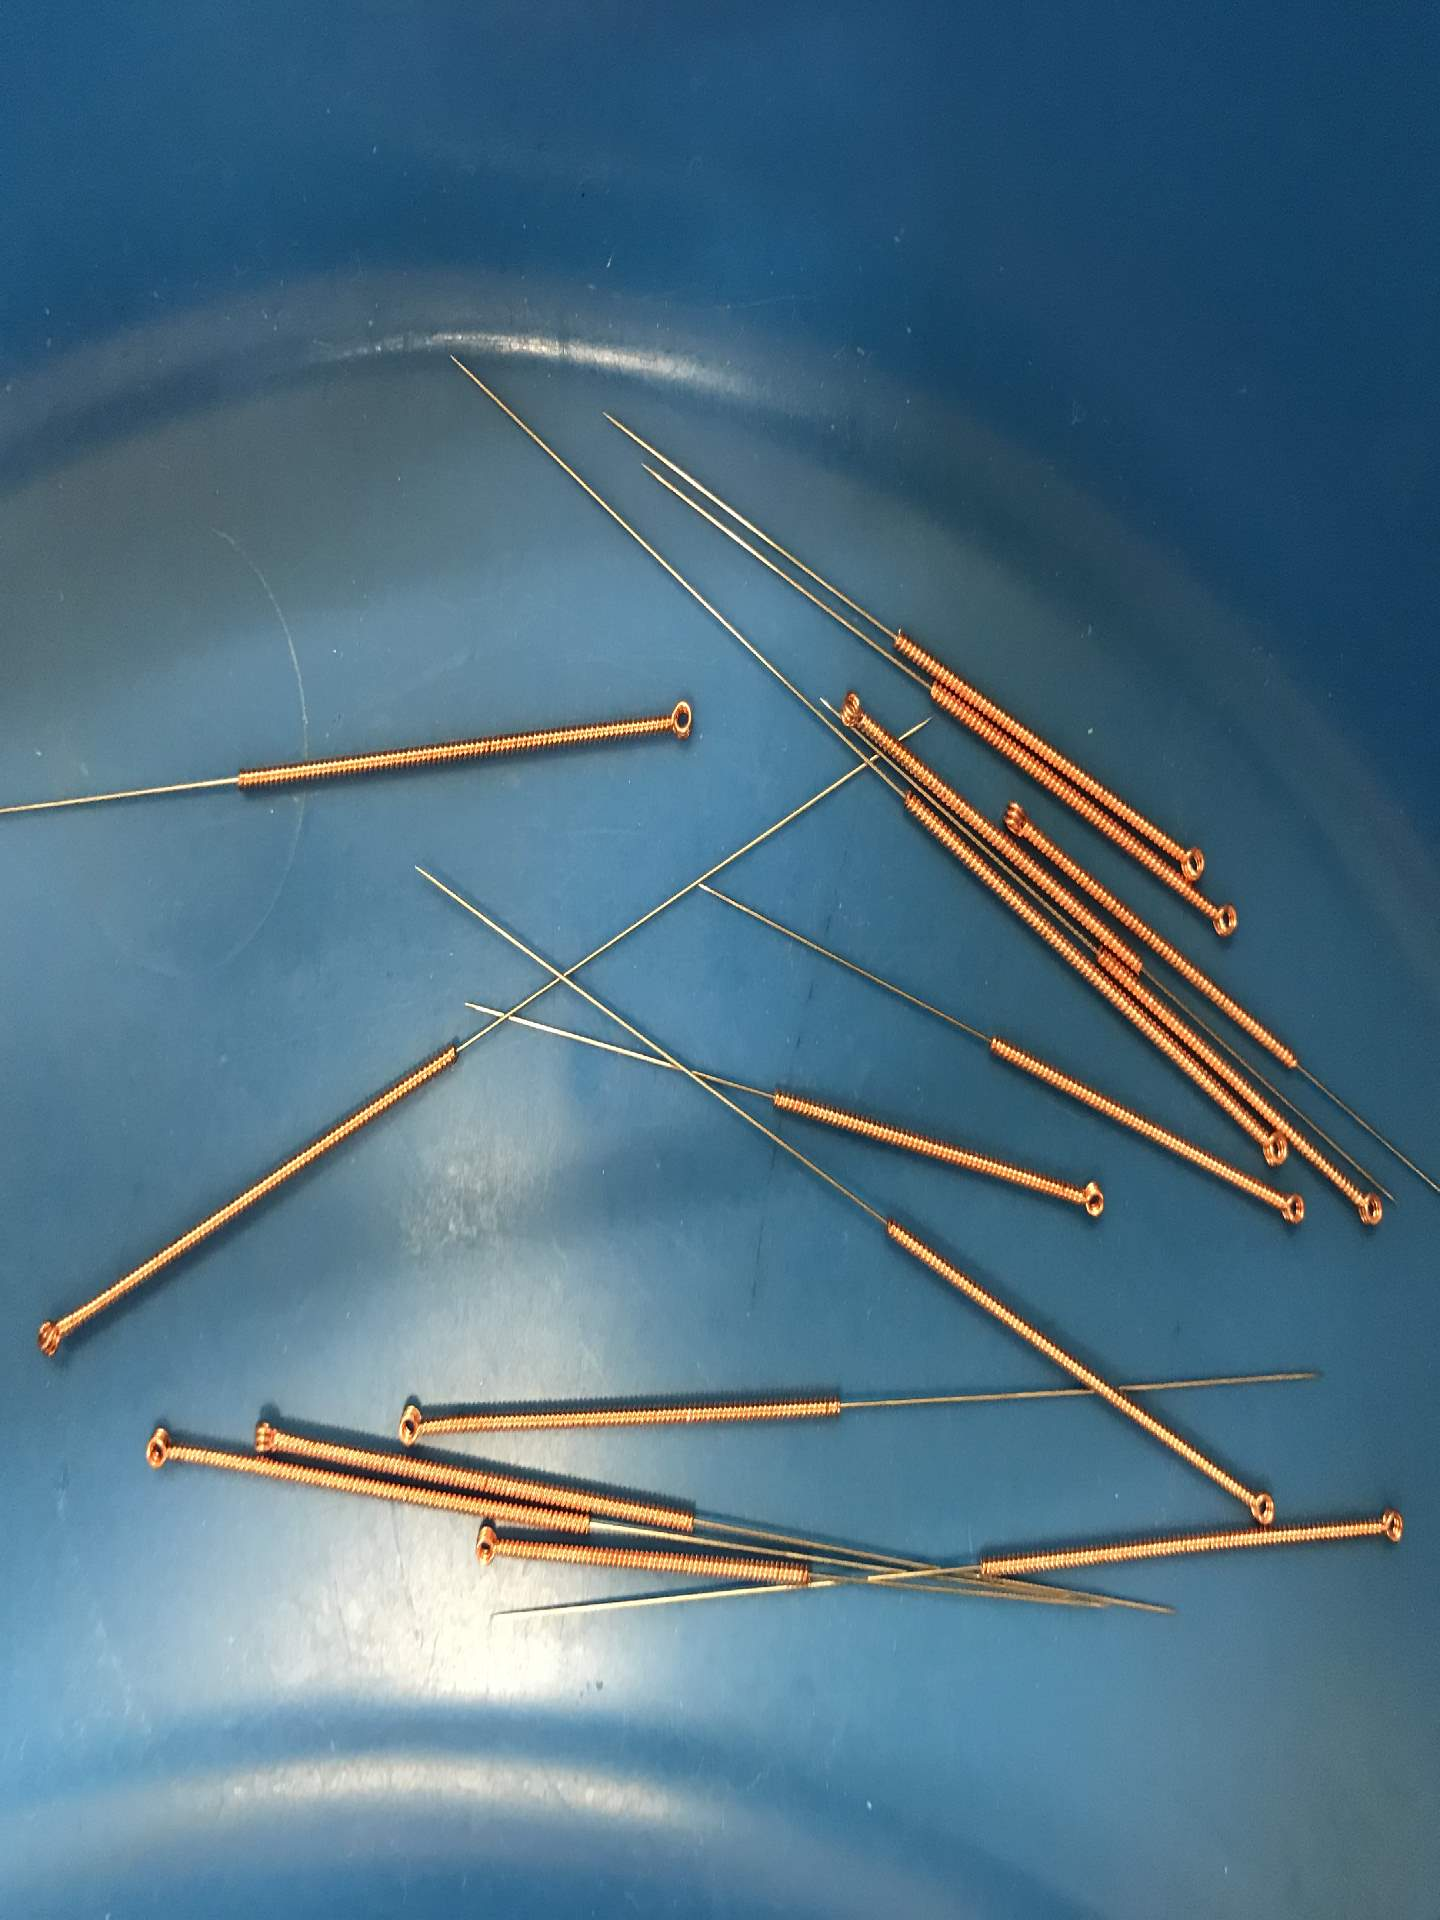needle: (643, 689, 712, 756), (1352, 1495, 1420, 1556), (1336, 1172, 1395, 1240), (129, 1414, 186, 1483), (24, 1305, 76, 1370), (1196, 893, 1252, 951), (1062, 1170, 1113, 1231), (824, 683, 879, 736), (387, 1395, 437, 1453), (1230, 1482, 1287, 1530), (461, 1519, 511, 1569), (1262, 1181, 1308, 1234), (242, 1414, 290, 1460), (1243, 1126, 1292, 1173), (997, 794, 1039, 842), (1172, 831, 1209, 884)
